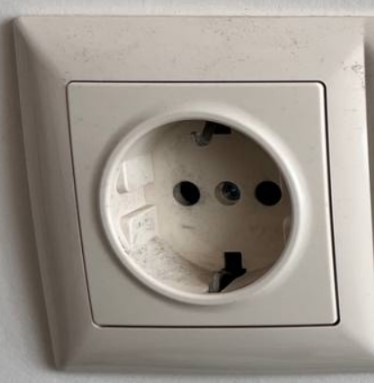Power Outlet: (18, 21, 366, 371)
